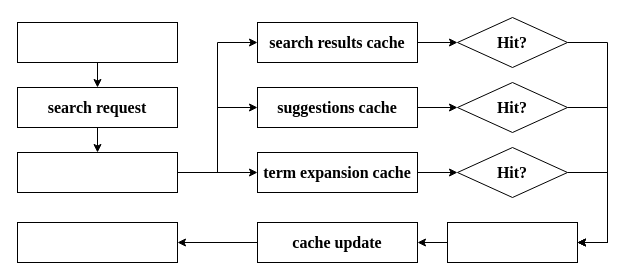
This 633x280 diagram has some shape labels left out. The shapes that lost their labels are listed below. From the top down, each one's centre as x and y in pixels, then its label:
At pixel 97 42: "request flow".
At pixel 97 172: "cache check layer".
At pixel 97 242: "response layer".
At pixel 512 242: "processing layer".
